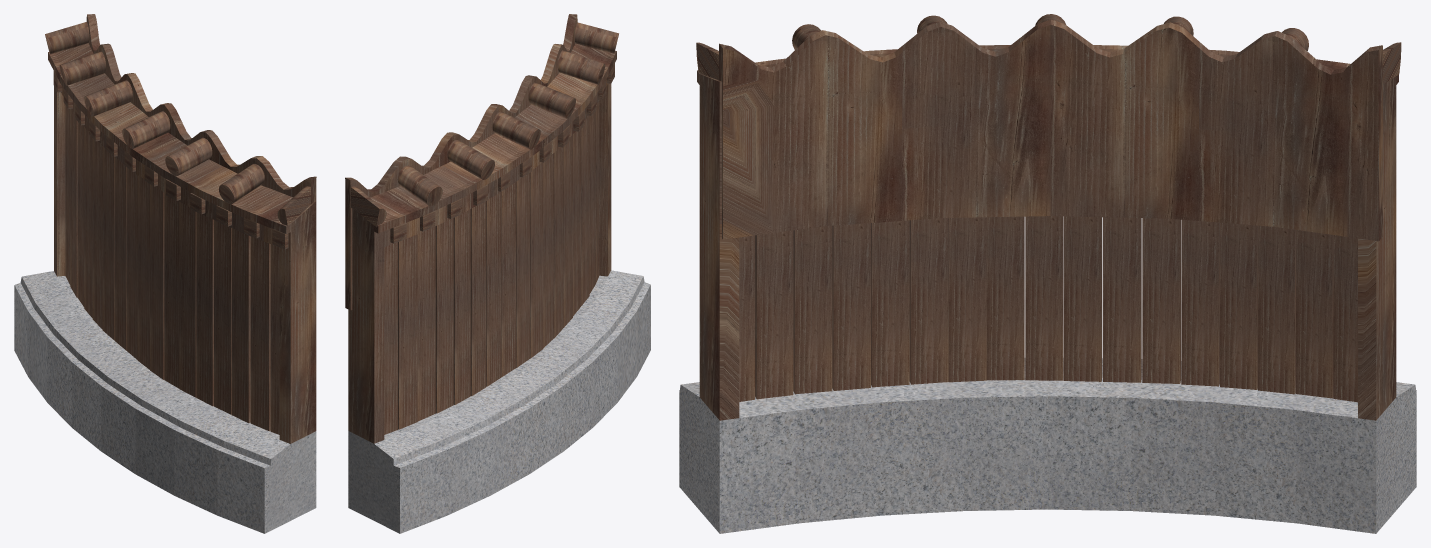
Rendered from SM_M_Treefence.fbx.
The picture shows the model from 3 angles, left to right: view 1: azimuth 30°, elevation 25°; view 2: azimuth 150°, elevation 25°; view 3: azimuth 270°, elevation 25°; orthographic projection. The views are drawn at different scales.
Visible parts, largest first — view 1: SM_M_Treefence; view 2: SM_M_Treefence; view 3: SM_M_Treefence.
Part boxes in pixels (box(x1,y1,x2,y2)): SM_M_Treefence: box(14, 14, 316, 533); SM_M_Treefence: box(345, 14, 650, 533); SM_M_Treefence: box(679, 14, 1416, 533).
Size of the model in its own units: 58.68 by 240 by 175.
Materials: 2 (2 with a texture image).
